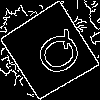Q: (24, 26, 88, 85)
